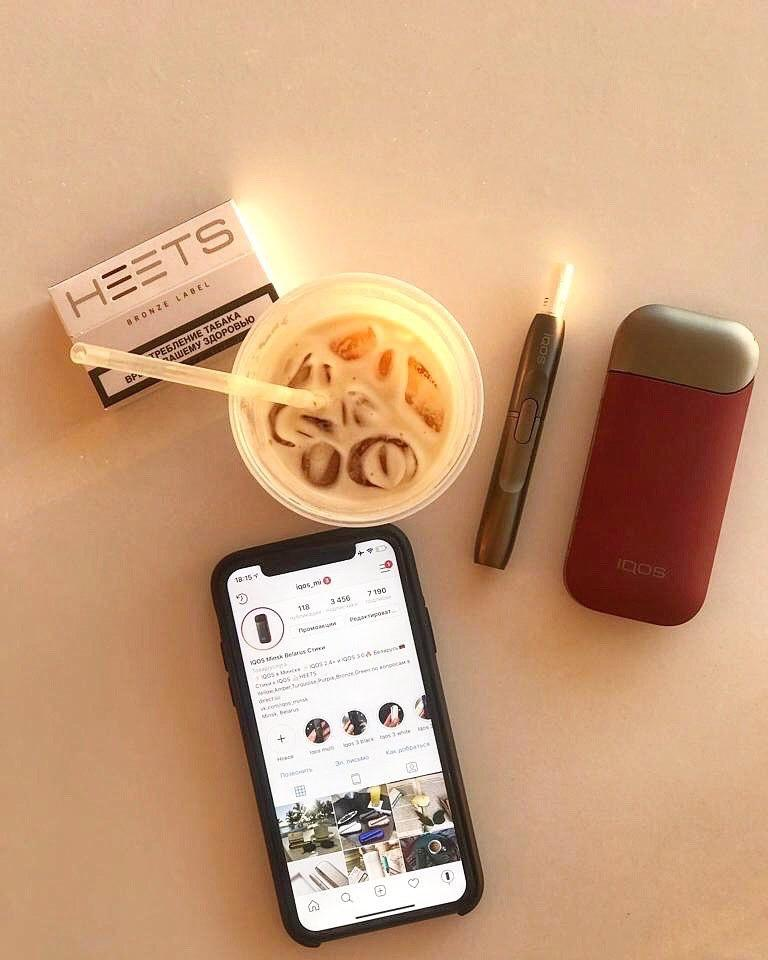iqos: (471, 262, 571, 571)
